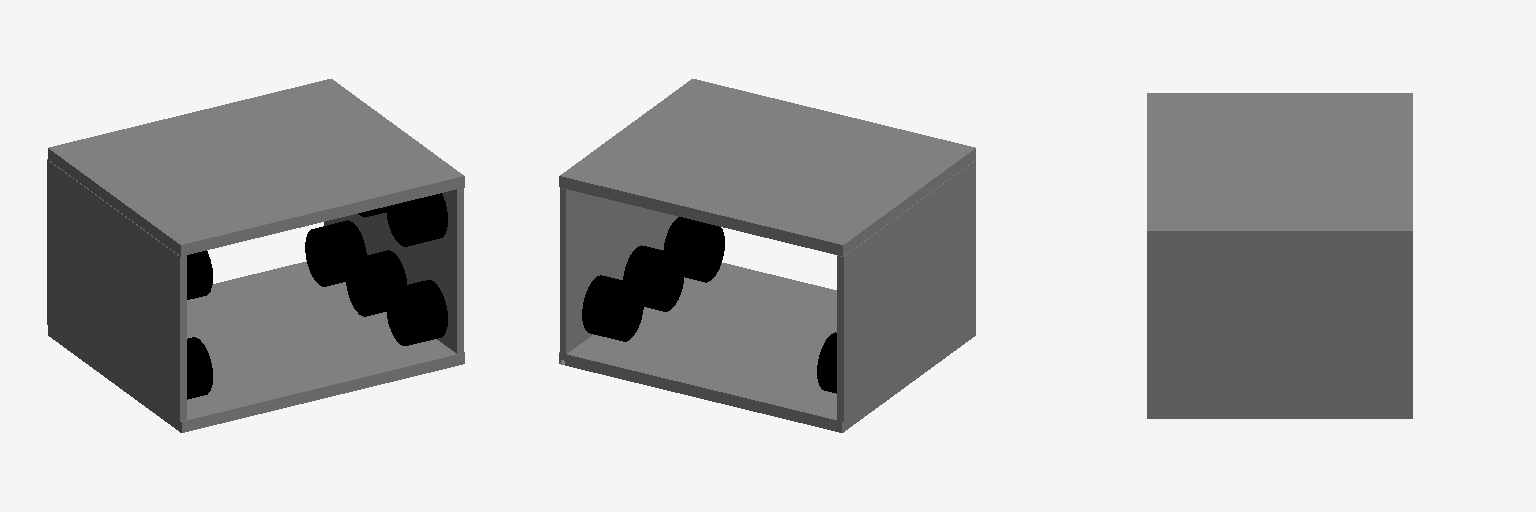
The model's file is Jaeger_ShooterMesh.obj.
The picture shows the model from 3 angles: view 1: azimuth 30°, elevation 25°; view 2: azimuth 150°, elevation 25°; view 3: azimuth 270°, elevation 25°; orthographic projection.
Parts seen in each view (by area): view 1: Jaeger_ShooterMesh; view 2: Jaeger_ShooterMesh; view 3: Jaeger_ShooterMesh.
Part boxes in pixels (left/top/right/bottom): Jaeger_ShooterMesh: left=47, top=79, right=464, bottom=432; Jaeger_ShooterMesh: left=559, top=79, right=975, bottom=432; Jaeger_ShooterMesh: left=1147, top=93, right=1412, bottom=418.
Bounding box in the file's own units: 1.09 × 0.6882 × 0.8826.